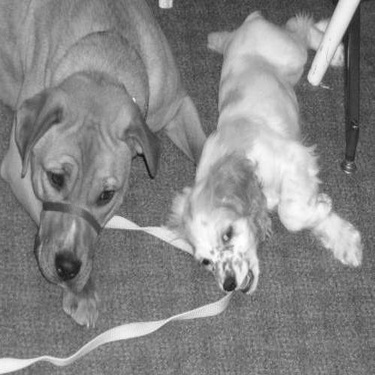dog: (1, 2, 211, 335), (155, 5, 371, 306)
